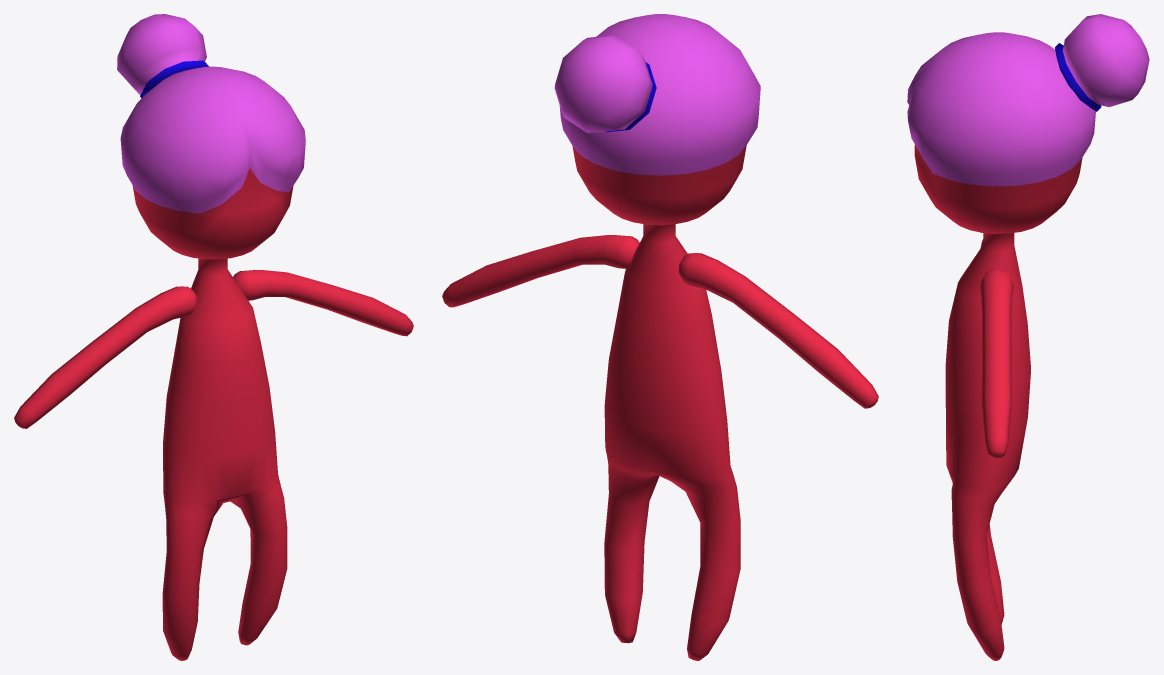
The model's file is commessa.fbx.
3 renders of one model, left to right at view 1: azimuth 30°, elevation 25°; view 2: azimuth 150°, elevation 25°; view 3: azimuth 270°, elevation 25°, orthographic. The views are drawn at different scales.
Parts seen in each view (by area): view 1: Sphere; view 2: Sphere; view 3: Sphere.
Part boxes in pixels (x1=…): Sphere: x1=14, y1=14, x2=413, y2=660; Sphere: x1=442, y1=14, x2=878, y2=660; Sphere: x1=907, y1=14, x2=1149, y2=660.
Bounding box in the file's own units: 393 × 565 × 199.
